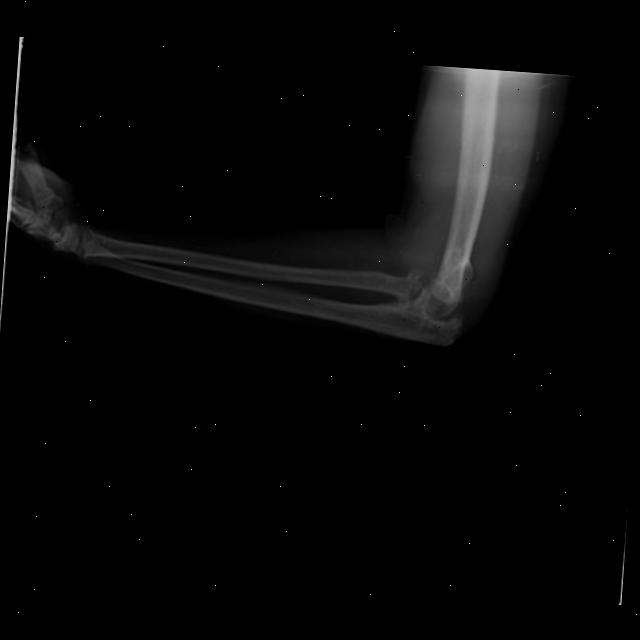Fracture: (392, 267, 466, 334)
